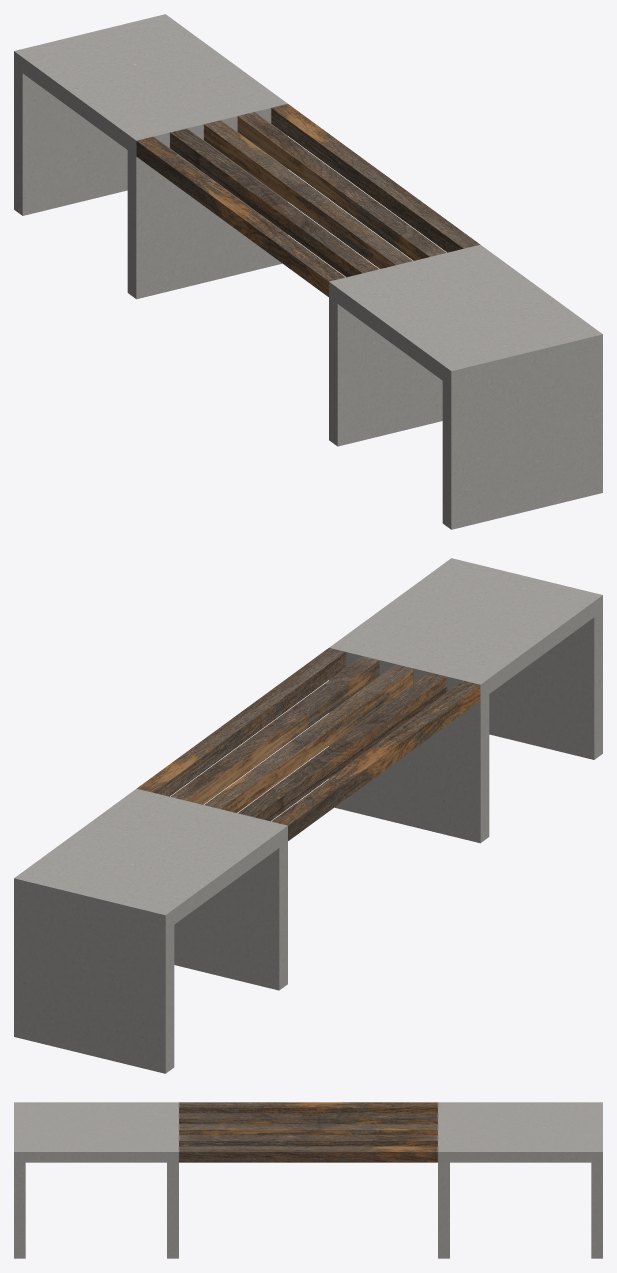
File: Lavicka_beton.fbx
3 views of the same model, one above another, from view 1: azimuth 30°, elevation 25°; view 2: azimuth 150°, elevation 25°; view 3: azimuth 270°, elevation 25° (orthographic). The views are drawn at different scales.
Parts seen in each view (by area): view 1: Lavicka_Beton.001; view 2: Lavicka_Beton.001; view 3: Lavicka_Beton.001.
Part boxes in pixels (x1,y1,x2,y2): Lavicka_Beton.001: (14,14,602,529); Lavicka_Beton.001: (14,558,602,1073); Lavicka_Beton.001: (14,1102,602,1258).
Bounding box in the file's own units: 50 × 50 × 250.
